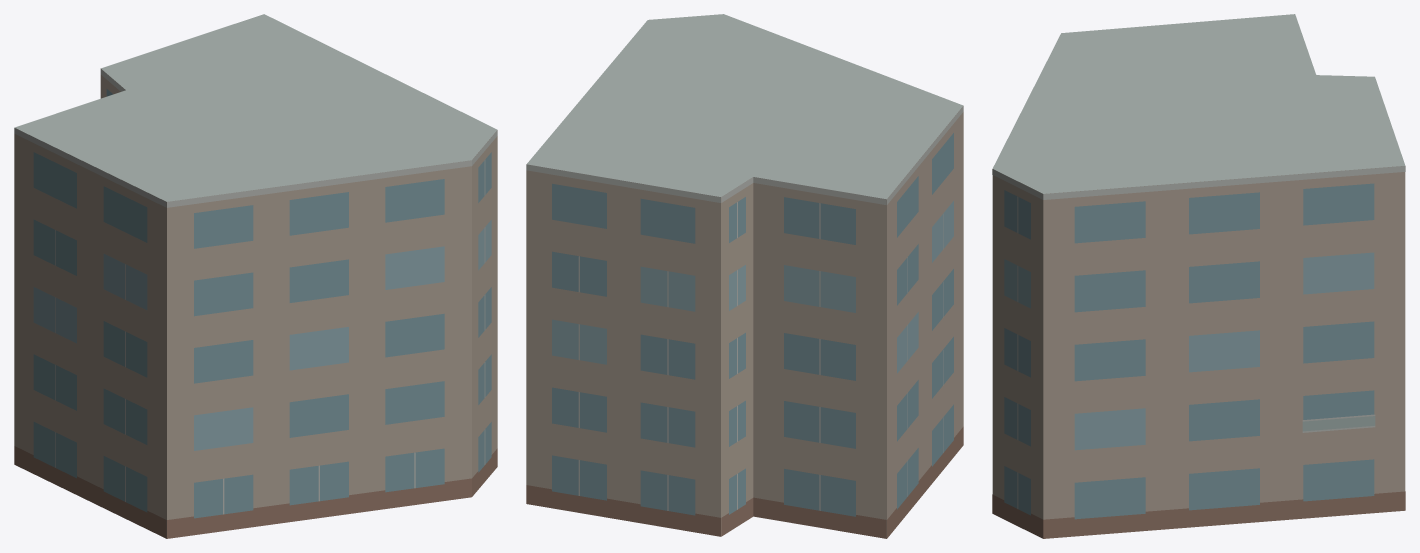
The model's file is survey-upis-32962386.glb.
3 renders of one model, left to right at view 1: azimuth 30°, elevation 25°; view 2: azimuth 150°, elevation 25°; view 3: azimuth 270°, elevation 25°, orthographic. The views are drawn at different scales.
Parts seen in each view (by area): view 1: survey-upis-32962386.tmp; view 2: survey-upis-32962386.tmp; view 3: survey-upis-32962386.tmp.
Part boxes in pixels (bbox=[...]): survey-upis-32962386.tmp: bbox=[14, 14, 497, 538]; survey-upis-32962386.tmp: bbox=[526, 14, 963, 538]; survey-upis-32962386.tmp: bbox=[992, 14, 1405, 538].
Size of the model in its own units: 15.45 by 13.8 by 14.99.
